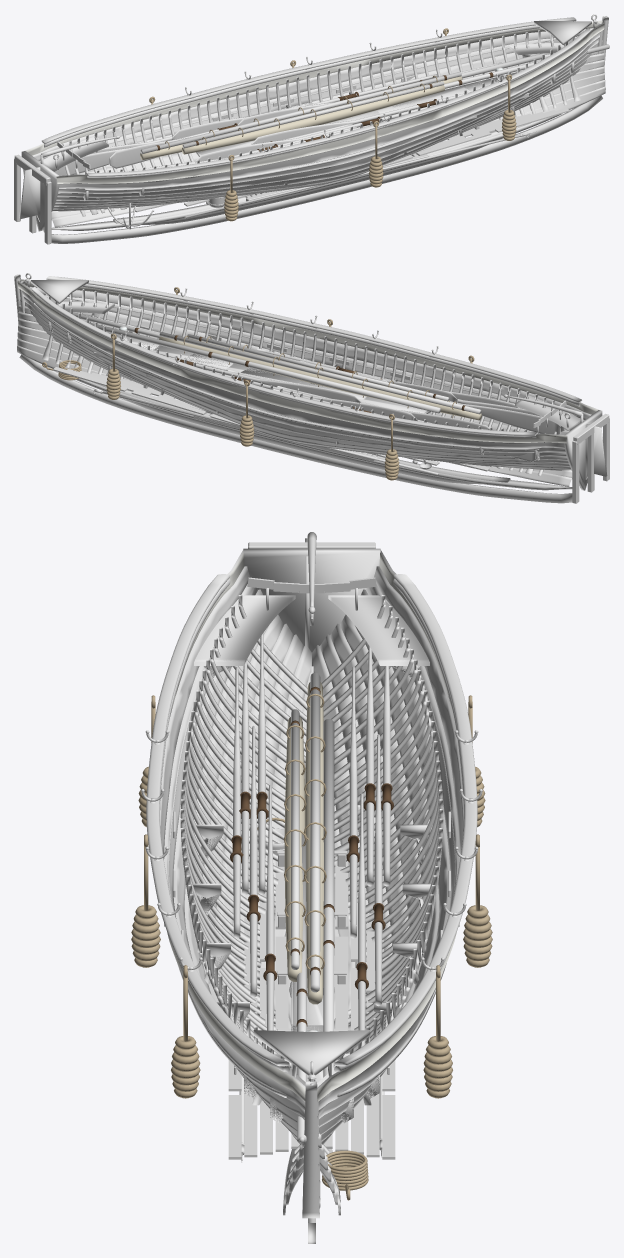
Rendered from rowing_cutter_25ft.fbx.
3 views of the same model, one above another, from view 1: azimuth 30°, elevation 25°; view 2: azimuth 150°, elevation 25°; view 3: azimuth 270°, elevation 25° (orthographic). The views are drawn at different scales.
Parts seen in each view (by area): view 1: Planking_Clinker, Gunwale_Inwale_Rubstrake, Keel_Stem_Sternpost, Rig_Stowed, Frames, Keelson, Transom, Fenders, Bottom_Boards, Thwarts, Rudder, Oar_S1 (+13 smaller); view 2: Planking_Clinker, Gunwale_Inwale_Rubstrake, Keel_Stem_Sternpost, Rig_Stowed, Frames, Transom, Keelson, Thwarts, Bottom_Boards, Fenders, Oar_S4, Oar_P1 (+14 smaller); view 3: Planking_Clinker, Frames, Gunwale_Inwale_Rubstrake, Rig_Stowed, Bottom_Boards, Fenders, Transom, Stern_Sheets, Thwart_Knees, Breasthook_Knees, Keel_Stem_Sternpost, Oar_P2 (+15 smaller).
Part boxes in pixels (bbox=[...]): Planking_Clinker: bbox=[24, 20, 605, 227]; Gunwale_Inwale_Rubstrake: bbox=[41, 16, 606, 191]; Keel_Stem_Sternpost: bbox=[51, 16, 608, 243]; Rig_Stowed: bbox=[140, 44, 609, 160]; Frames: bbox=[61, 30, 580, 216]; Keelson: bbox=[113, 123, 530, 224]; Transom: bbox=[14, 151, 59, 244]; Fenders: bbox=[149, 28, 516, 221]; Bottom_Boards: bbox=[133, 108, 569, 212]; Thwarts: bbox=[195, 70, 521, 156]; Rudder: bbox=[19, 135, 119, 232]; Oar_S1: bbox=[251, 92, 470, 144]; Planking_Clinker: bbox=[17, 279, 598, 486]; Gunwale_Inwale_Rubstrake: bbox=[15, 275, 581, 450]; Keel_Stem_Sternpost: bbox=[14, 274, 572, 503]; Rig_Stowed: bbox=[69, 312, 481, 420]; Frames: bbox=[42, 289, 562, 475]; Transom: bbox=[564, 410, 609, 503]; Keelson: bbox=[92, 382, 510, 484]; Thwarts: bbox=[108, 332, 430, 413]; Bottom_Boards: bbox=[53, 367, 490, 471]; Fenders: bbox=[106, 287, 474, 480]; Oar_S4: bbox=[450, 401, 560, 434]; Oar_P1: bbox=[165, 356, 361, 402]; Planking_Clinker: bbox=[160, 550, 463, 1215]; Frames: bbox=[180, 595, 443, 1194]; Gunwale_Inwale_Rubstrake: bbox=[146, 574, 477, 1097]; Rig_Stowed: bbox=[283, 673, 334, 1143]; Bottom_Boards: bbox=[228, 844, 395, 1159]; Fenders: bbox=[131, 695, 492, 1098]; Transom: bbox=[243, 542, 380, 652]; Stern_Sheets: bbox=[194, 595, 429, 665]; Thwart_Knees: bbox=[191, 824, 432, 1105]; Breasthook_Knees: bbox=[253, 1030, 370, 1075]; Keel_Stem_Sternpost: bbox=[302, 1081, 320, 1243]; Oar_P2: bbox=[371, 734, 385, 1006].
Size of the model in its own units: 817 by 156 by 217.
